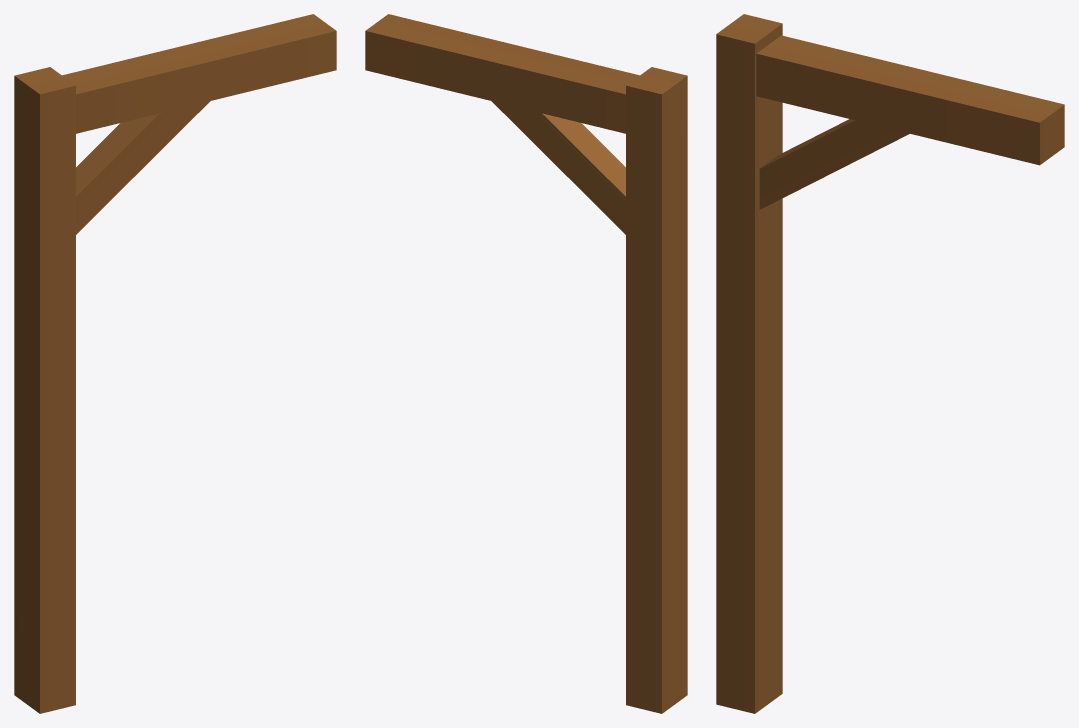
File: Support_Wood_01.fbx
3 renders of one model, left to right at view 1: azimuth 30°, elevation 25°; view 2: azimuth 150°, elevation 25°; view 3: azimuth 330°, elevation 25°, orthographic. The views are drawn at different scales.
Parts seen in each view (by area): view 1: Support_Wood_01, Support_Wood_01.002, Support_Wood_01.001; view 2: Support_Wood_01, Support_Wood_01.002, Support_Wood_01.001; view 3: Support_Wood_01, Support_Wood_01.002, Support_Wood_01.001.
Part boxes in pixels (left/top/right/bottom): Support_Wood_01: left=14, top=67, right=75, bottom=713; Support_Wood_01.002: left=62, top=14, right=336, bottom=133; Support_Wood_01.001: left=76, top=101, right=210, bottom=234; Support_Wood_01: left=626, top=67, right=687, bottom=713; Support_Wood_01.002: left=365, top=14, right=639, bottom=133; Support_Wood_01.001: left=491, top=101, right=625, bottom=234; Support_Wood_01: left=716, top=14, right=782, bottom=713; Support_Wood_01.002: left=756, top=35, right=1064, bottom=165; Support_Wood_01.001: left=759, top=119, right=909, bottom=209.
Size of the model in its own units: 2.01 by 4 by 0.3.
